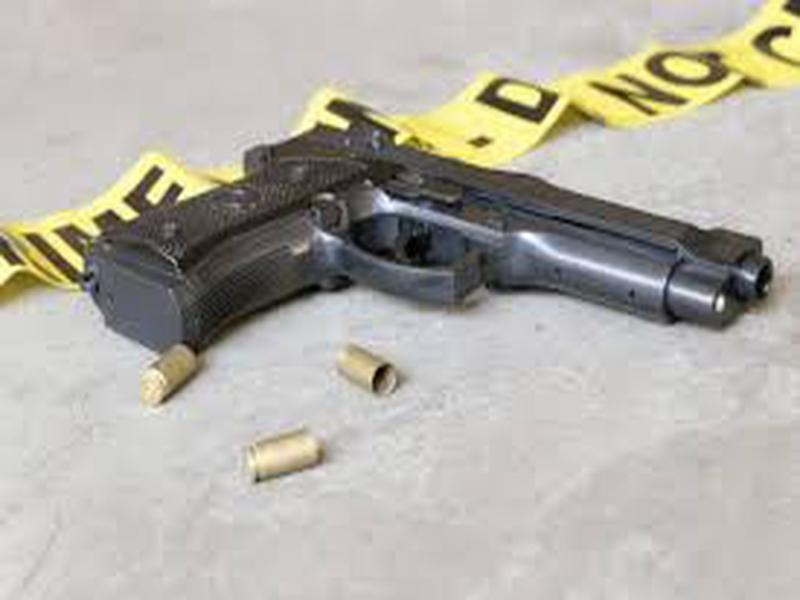gun: (78, 117, 772, 477)
